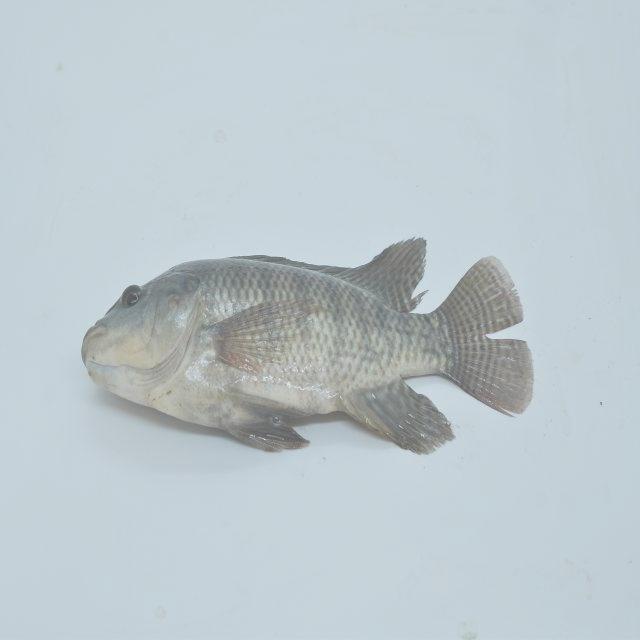Healthy Fish: (79, 240, 538, 459)
